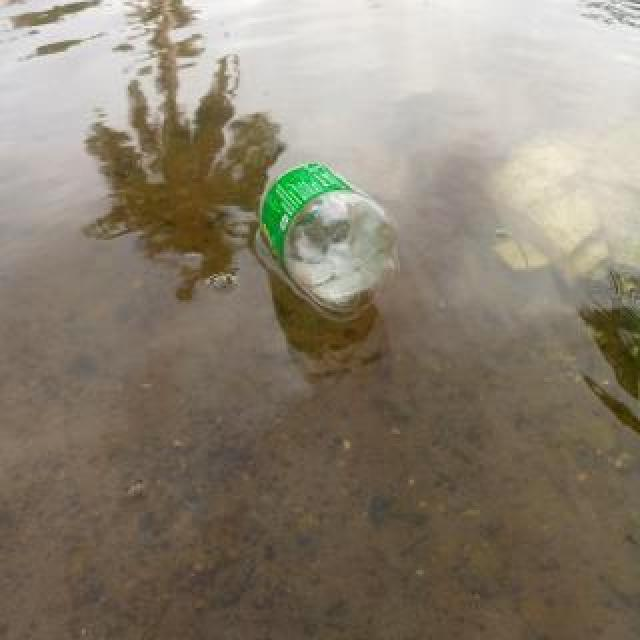bottle: (257, 162, 405, 316)
